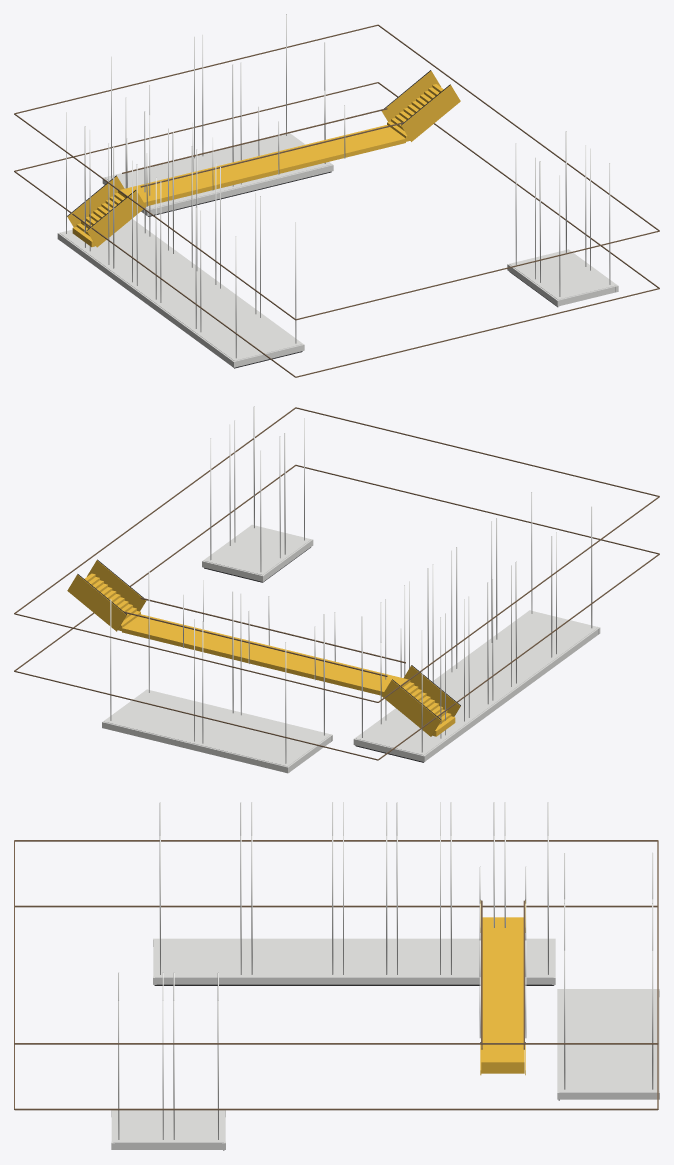
The model's file is SM_Bygg_Helgasetr_Overatriet.fbx.
3 views of the same model, one above another, from view 1: azimuth 30°, elevation 25°; view 2: azimuth 150°, elevation 25°; view 3: azimuth 270°, elevation 25° (orthographic). The views are drawn at different scales.
Visible parts, largest first — view 1: SM_Bygg_Helgasetr_Overatriet; view 2: SM_Bygg_Helgasetr_Overatriet; view 3: SM_Bygg_Helgasetr_Overatriet.
Boxes of the visible parts, x1,y1,x2,y2 form: SM_Bygg_Helgasetr_Overatriet: (14,14,659,377); SM_Bygg_Helgasetr_Overatriet: (14,406,659,773); SM_Bygg_Helgasetr_Overatriet: (14,802,659,1150).
Size of the model in its own units: 35.64 by 27.26 by 8.98.
